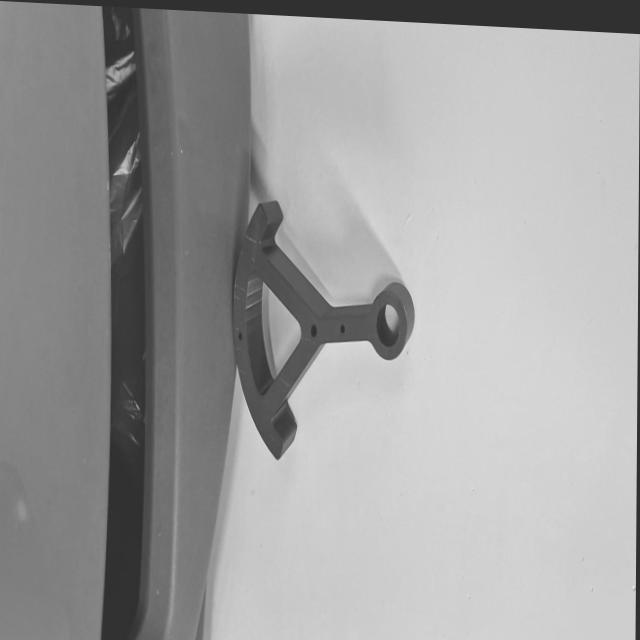haptic: (231, 196, 417, 467)
